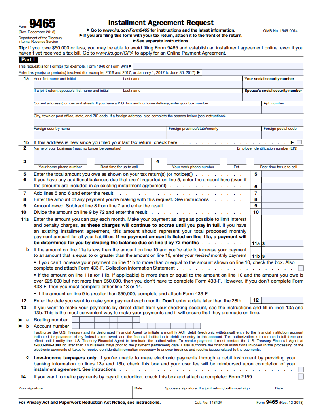checkbox: (297, 264, 304, 272), (297, 372, 304, 380), (296, 138, 303, 145), (298, 366, 305, 373)
textbox: (32, 112, 306, 128), (31, 100, 263, 115), (31, 143, 236, 159), (32, 124, 169, 141), (120, 74, 245, 90), (120, 87, 245, 103), (17, 384, 134, 400), (161, 384, 275, 400), (165, 124, 263, 140), (32, 74, 124, 90), (32, 86, 123, 102), (132, 62, 306, 70), (70, 321, 203, 330), (260, 213, 294, 248), (200, 67, 306, 77), (234, 144, 307, 158), (241, 74, 306, 89), (241, 87, 306, 102), (260, 100, 306, 116), (261, 124, 307, 140), (71, 315, 143, 324), (272, 384, 306, 400), (131, 384, 164, 400), (291, 213, 306, 248), (260, 176, 294, 191), (260, 245, 294, 260), (261, 296, 304, 305), (260, 169, 294, 179), (260, 188, 294, 198), (260, 194, 294, 204), (260, 206, 294, 216), (260, 201, 294, 210), (291, 175, 306, 191), (291, 244, 306, 260), (290, 187, 310, 198), (291, 200, 310, 211), (291, 207, 310, 217), (291, 194, 310, 204), (291, 169, 305, 178)
textline: (32, 159, 89, 165), (93, 159, 148, 165), (165, 159, 220, 165), (253, 159, 306, 165), (226, 159, 249, 165)
